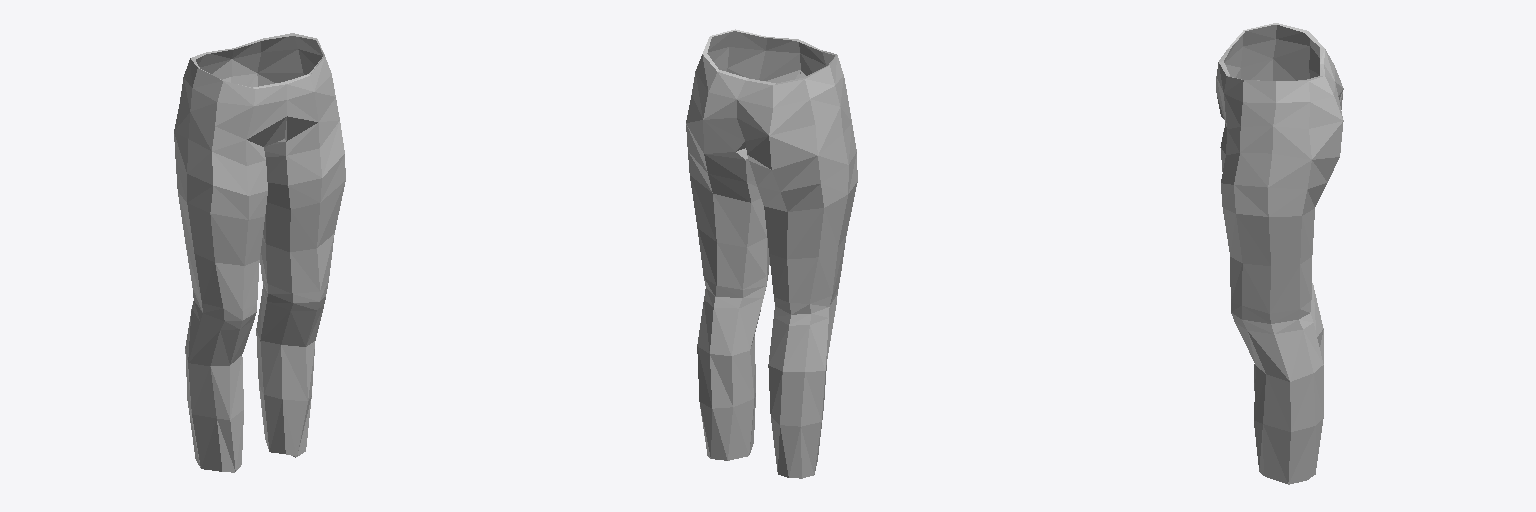
File: testentity-human_Jeans.obj
3 renders of one model, left to right at view 1: azimuth 30°, elevation 25°; view 2: azimuth 150°, elevation 25°; view 3: azimuth 270°, elevation 25°, orthographic.
Size of the model in its own units: 3.38 by 8.8 by 2.49.